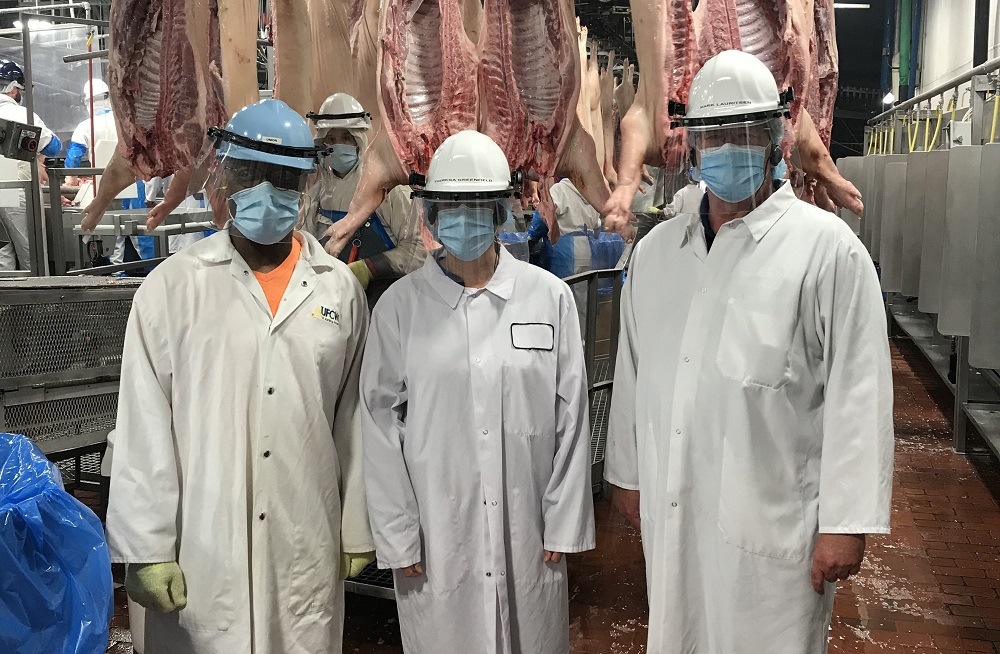person: (604, 50, 894, 654), (103, 98, 366, 654), (363, 133, 599, 654), (301, 93, 428, 284), (1, 59, 63, 275), (64, 74, 146, 208)
